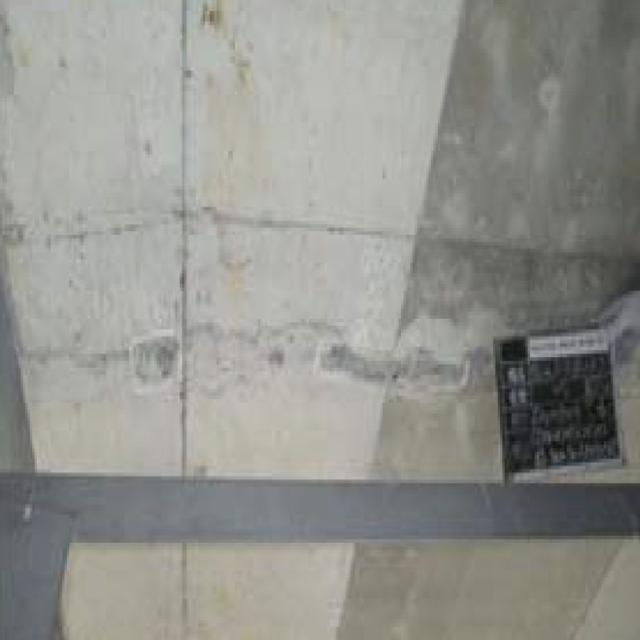spalling: (212, 317, 482, 406), (122, 328, 197, 398)
